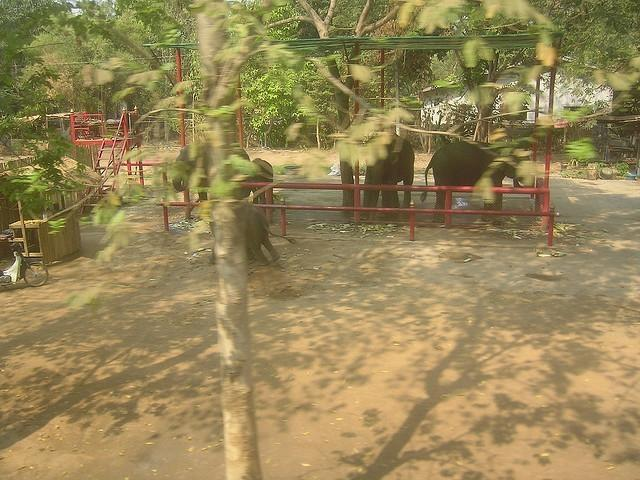motorcycle: (0, 238, 48, 289)
